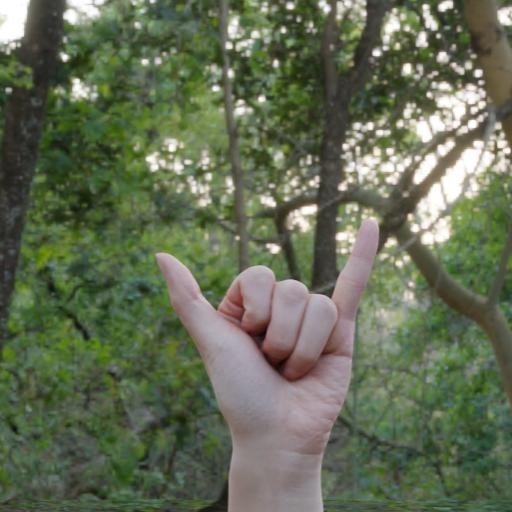Y: (133, 188, 412, 467)
